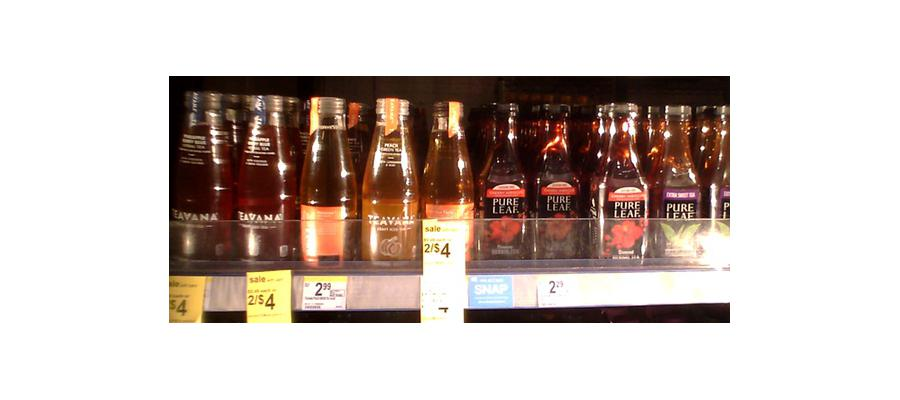bottle: (296, 93, 359, 272), (232, 86, 295, 263), (417, 99, 471, 304), (171, 87, 231, 264), (358, 94, 417, 270), (592, 94, 649, 263), (475, 97, 529, 258), (535, 97, 587, 254), (654, 97, 704, 259)
